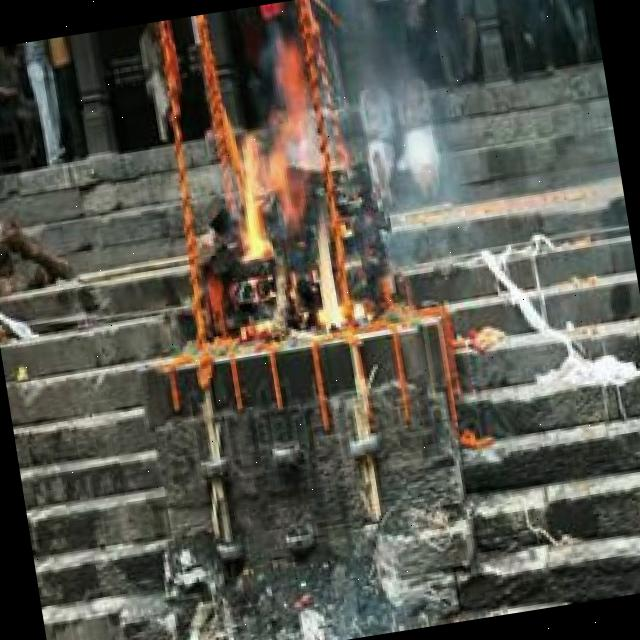fire: (216, 42, 354, 340)
